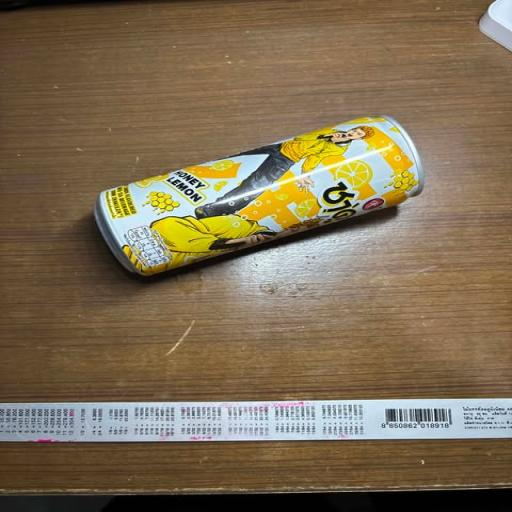canned: (75, 102, 436, 312)
